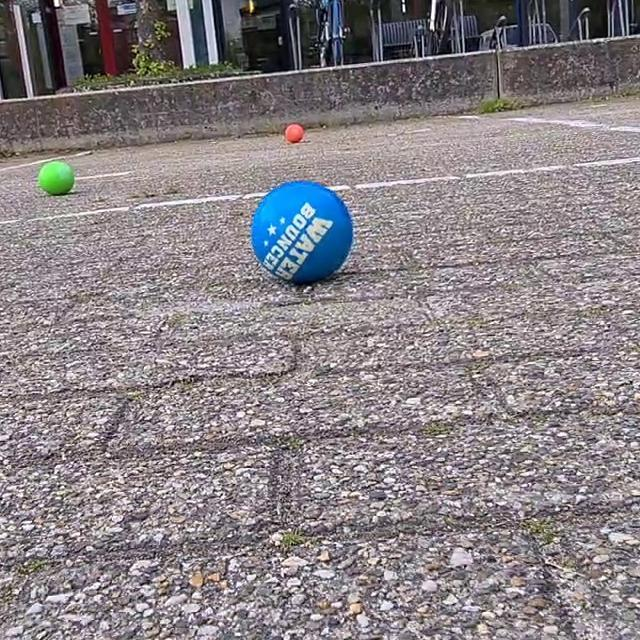ball: (38, 159, 76, 198), (282, 119, 306, 147)
